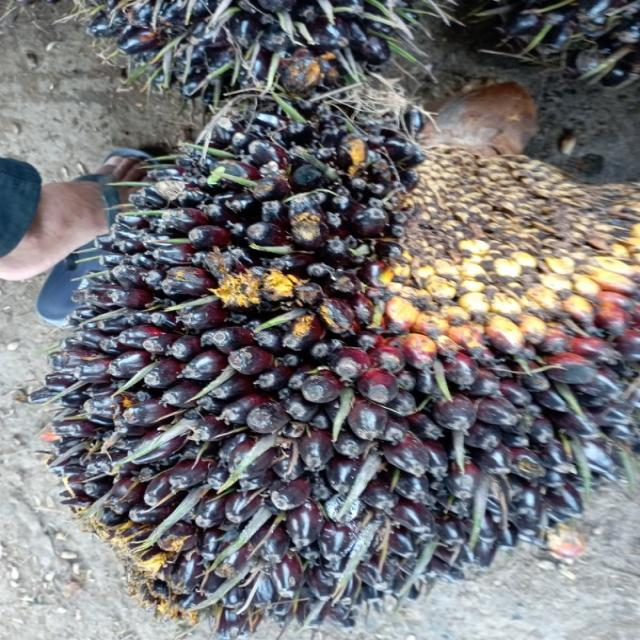fraksi 00: (15, 91, 640, 630)
